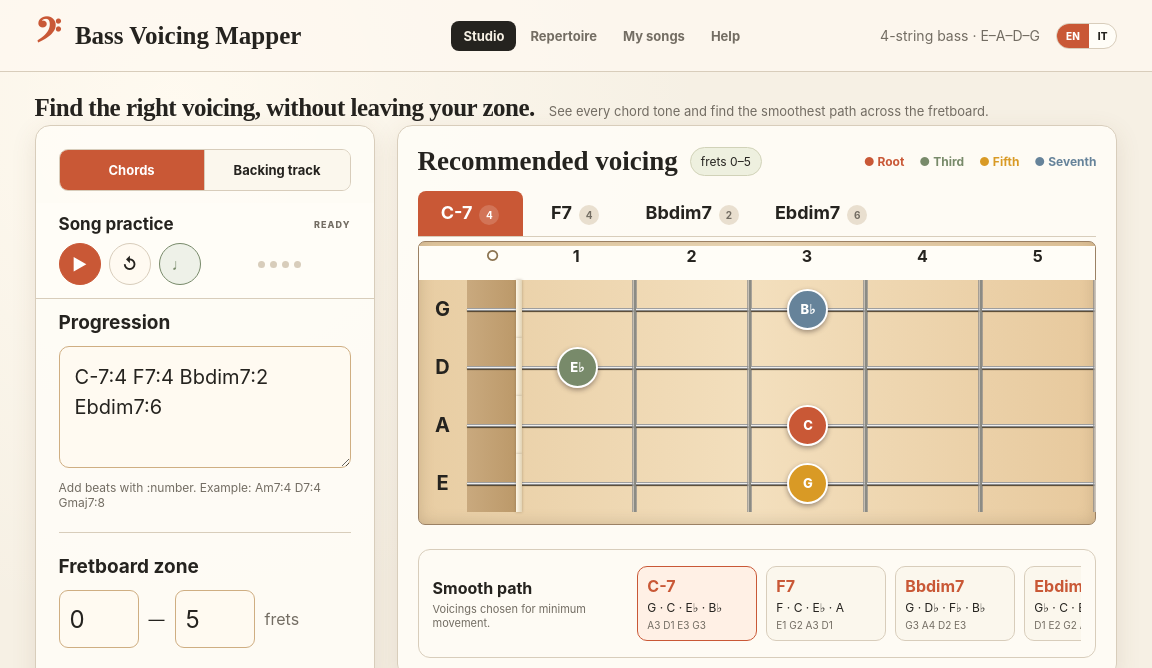
Scenario: control panel › swaps content between the two tabs
Expected: the text box labelled "Progression" is shown, [58,346,350,468]
What coordinates should you click on to do the following:
click the tab "Backing track"
I would click on:
 (277, 170)
Its box is [204,150,350,190].
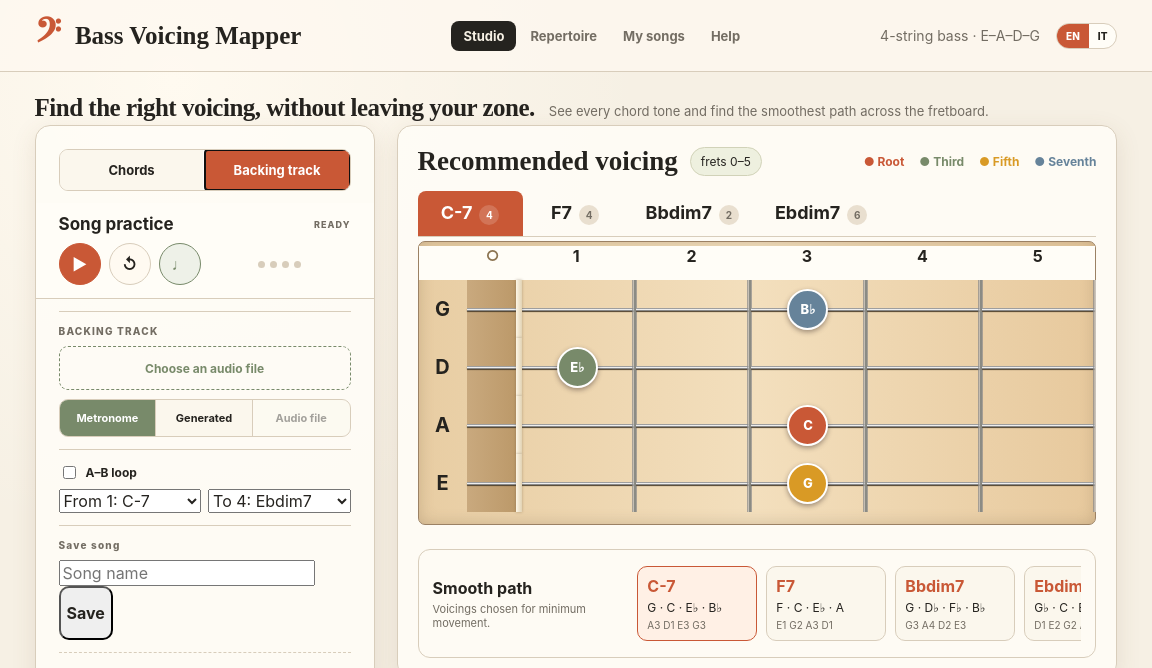
Now the label labelled "Progression" is gone
Now the text "Choose an audio file" is shown, box [145,361,264,376]
